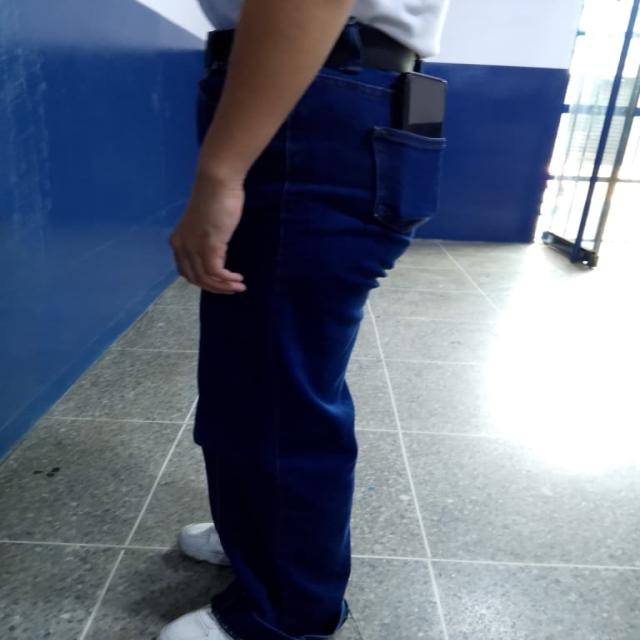pantalon_oscuro: (192, 32, 446, 640)
